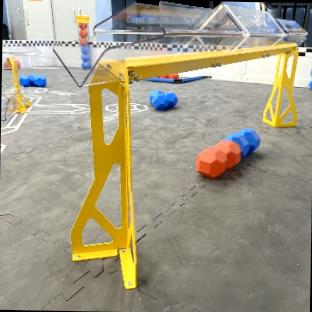V5_BLUE: (224, 128, 259, 154), (149, 89, 177, 109), (18, 73, 46, 86)
V5_RED: (197, 138, 240, 177)
